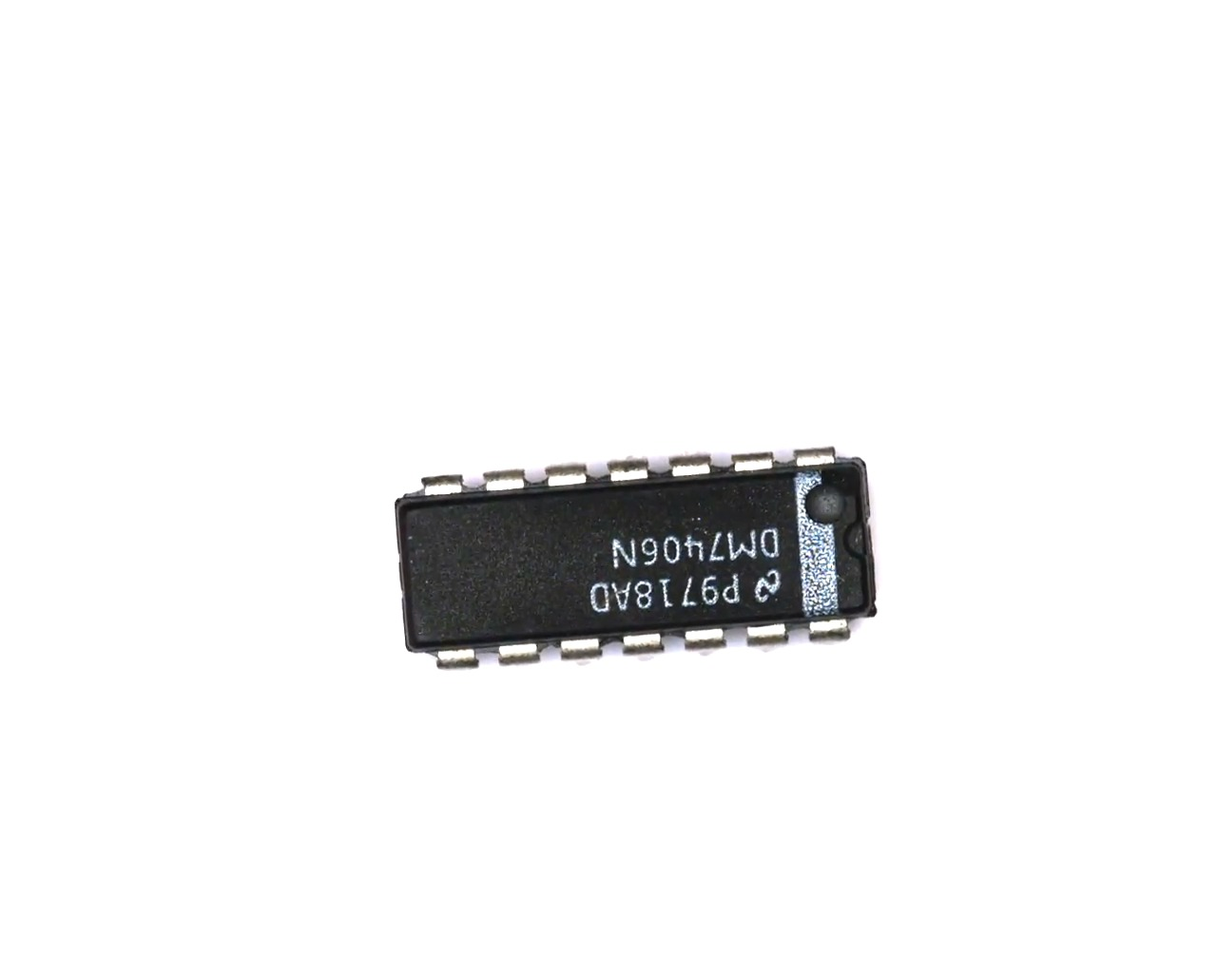IC: (374, 432, 894, 684)
notch: (839, 513, 882, 563)
